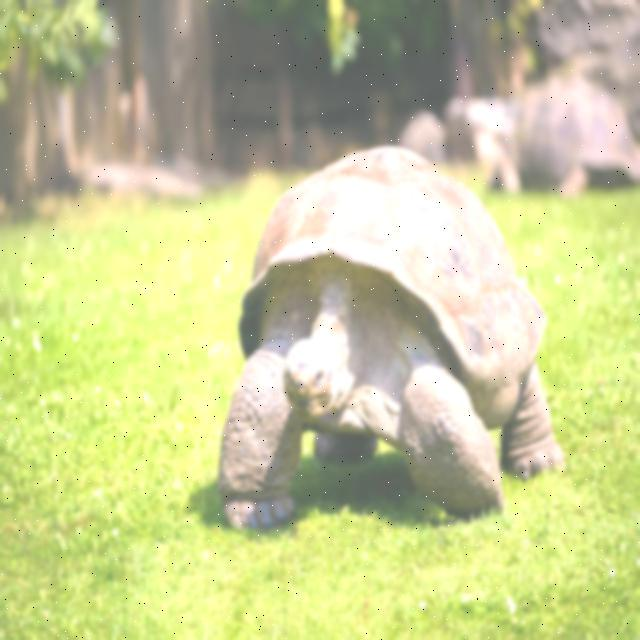tortoise: (196, 139, 578, 541)
